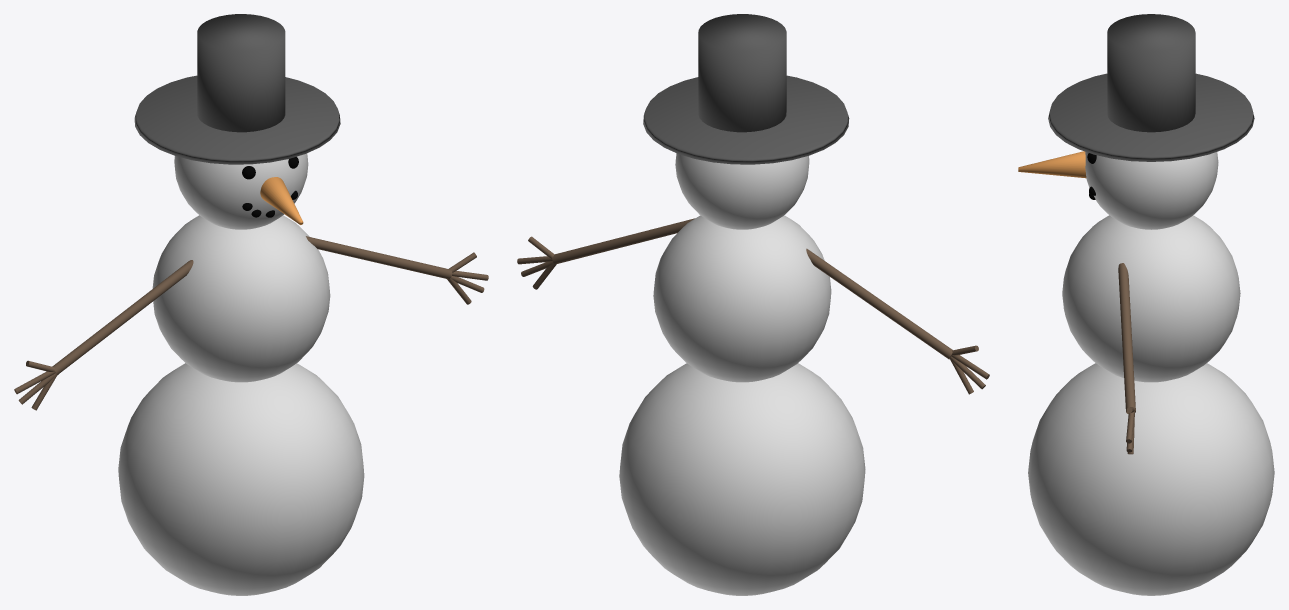
Rendered from snowman.fbx.
The picture shows the model from 3 angles, left to right: view 1: azimuth 30°, elevation 25°; view 2: azimuth 150°, elevation 25°; view 3: azimuth 270°, elevation 25°; orthographic projection.
Parts seen in each view (by area): view 1: Sphere, Sphere.001, Sphere.003, Cylinder, Sphere.002, Cylinder.011, Cylinder.002, Cylinder.001; view 2: Sphere, Sphere.001, Sphere.003, Cylinder, Sphere.002, Cylinder.011, Cylinder.002; view 3: Sphere, Sphere.001, Sphere.003, Cylinder, Sphere.002, Cylinder.002, Cylinder.001.
Part boxes in pixels (x1=…): Sphere: x1=118, y1=363, x2=364, y2=595; Sphere.001: x1=152, y1=215, x2=330, y2=382; Sphere.003: x1=134, y1=75, x2=340, y2=164; Cylinder: x1=197, y1=14, x2=285, y2=132; Sphere.002: x1=174, y1=153, x2=308, y2=229; Cylinder.011: x1=52, y1=260, x2=193, y2=374; Cylinder.002: x1=306, y1=236, x2=452, y2=279; Cylinder.001: x1=260, y1=177, x2=303, y2=224; Sphere: x1=619, y1=363, x2=865, y2=595; Sphere.001: x1=653, y1=215, x2=831, y2=382; Sphere.003: x1=643, y1=75, x2=849, y2=164; Cylinder: x1=698, y1=14, x2=786, y2=132; Sphere.002: x1=675, y1=153, x2=809, y2=229; Cylinder.011: x1=806, y1=248, x2=952, y2=359; Cylinder.002: x1=552, y1=218, x2=694, y2=263; Sphere: x1=1028, y1=363, x2=1274, y2=595; Sphere.001: x1=1062, y1=215, x2=1240, y2=382; Sphere.003: x1=1048, y1=73, x2=1254, y2=161; Cylinder: x1=1107, y1=14, x2=1195, y2=132; Sphere.002: x1=1085, y1=152, x2=1218, y2=229; Cylinder.002: x1=1118, y1=263, x2=1135, y2=414; Cylinder.001: x1=1018, y1=151, x2=1086, y2=178.
Size of the model in its own units: 528 by 590 by 248.
